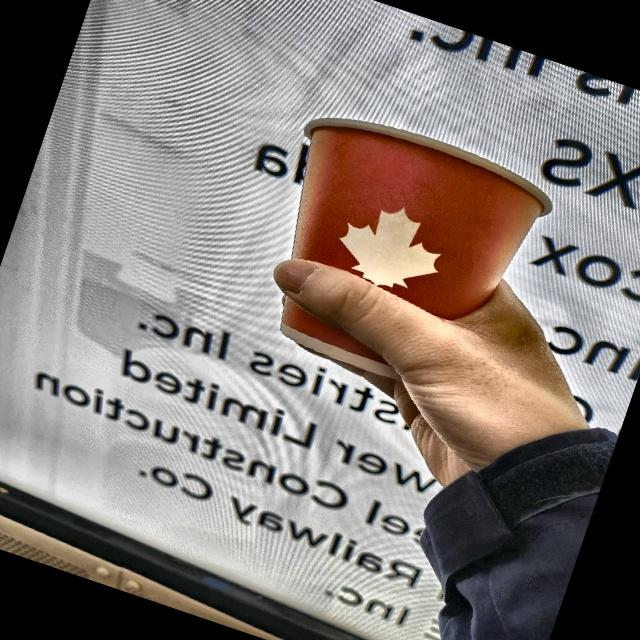Timmies: (234, 94, 566, 420)
